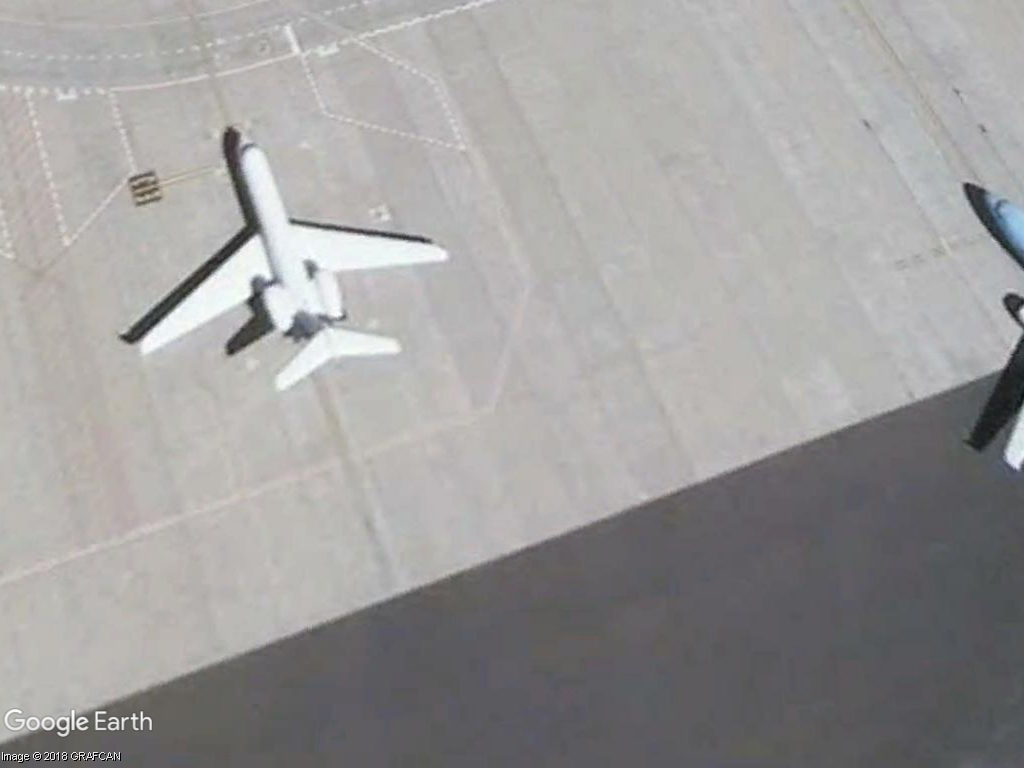chartered: (119, 121, 456, 397)
